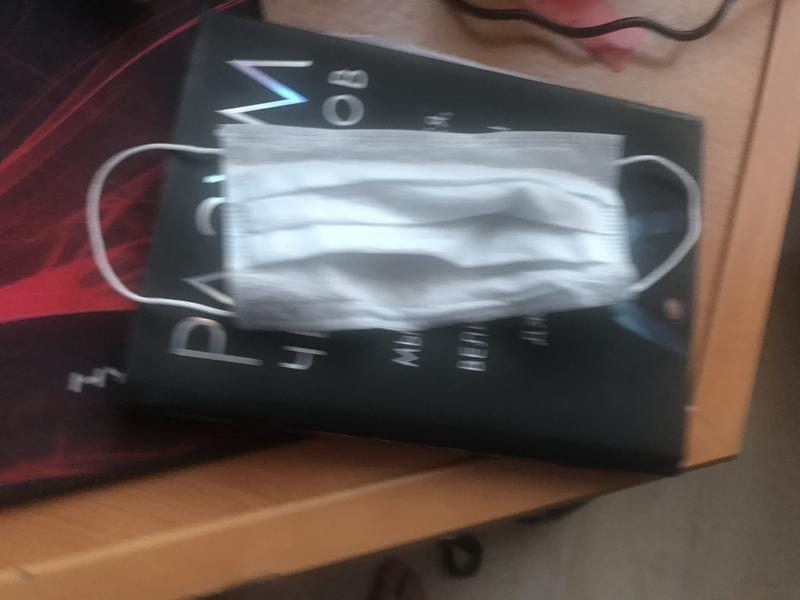medical_mask: (86, 129, 701, 330)
